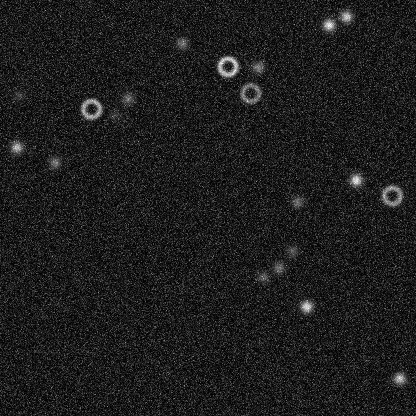Ring: (380, 183, 404, 207), (215, 54, 239, 78), (238, 81, 262, 105), (79, 96, 103, 120)
Spot: (284, 242, 300, 258), (249, 59, 265, 75), (46, 154, 62, 170), (298, 298, 314, 314), (106, 106, 122, 122), (289, 193, 305, 209), (347, 172, 363, 188), (338, 8, 354, 24), (10, 87, 26, 103), (174, 35, 190, 51), (254, 268, 270, 284), (270, 259, 286, 275), (119, 90, 135, 106), (320, 16, 336, 32), (8, 139, 24, 155), (391, 370, 407, 386)
